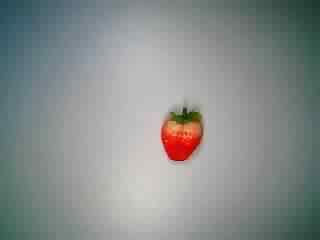strawberry: (145, 100, 218, 167)
